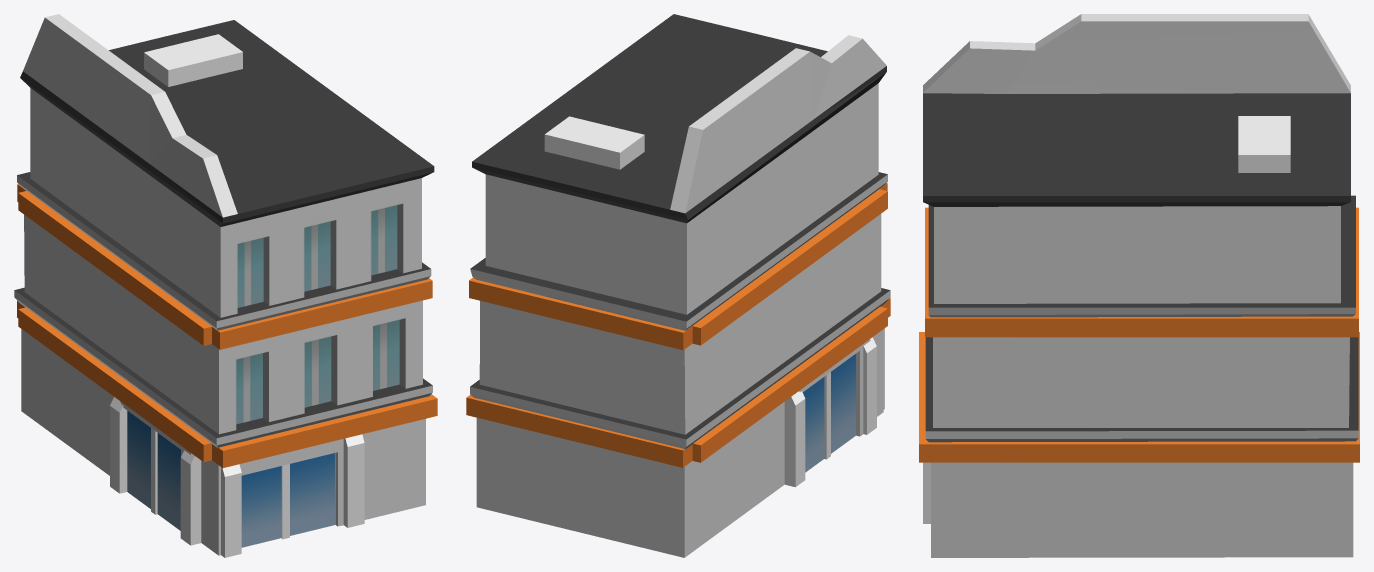
Rendered from French House 4.fbx.
The picture shows the model from 3 angles, left to right: view 1: azimuth 30°, elevation 25°; view 2: azimuth 150°, elevation 25°; view 3: azimuth 270°, elevation 25°; orthographic projection. The views are drawn at different scales.
Parts seen in each view (by area): view 1: French House 4; view 2: French House 4; view 3: French House 4.
Part boxes in pixels (x1,y1,x2,y2): French House 4: (14,14,437,557); French House 4: (466,14,890,557); French House 4: (919,14,1359,557).
Size of the model in its own units: 2.2 by 3.83 by 3.5.
